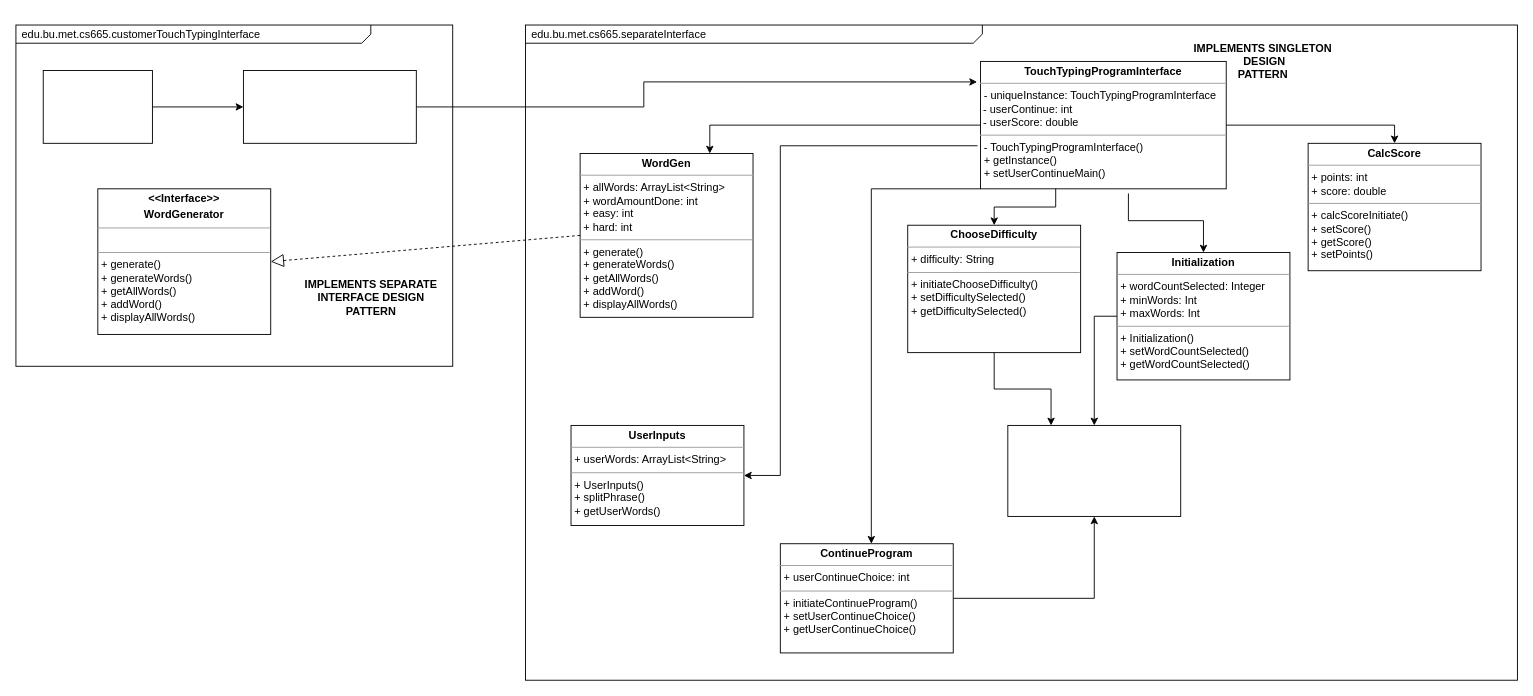
This 1533x696 diagram has some shape labels left out. Here are the shapes that lost their labels. From the top down, the centre of each, then its label:
At point 97,106: "CLIENT USES".
At point 329,106: "TouchTypingApp + main()".
At point 1094,470: "Messages + errorInputMessage() + welcomeMessage()".
